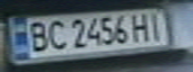2: (66, 16, 87, 50)
4: (84, 15, 103, 47)
5: (97, 13, 118, 46)
6: (112, 12, 133, 45)
B: (21, 19, 51, 53)
C: (42, 18, 69, 52)
H: (127, 11, 154, 43)
I: (145, 10, 169, 40)
